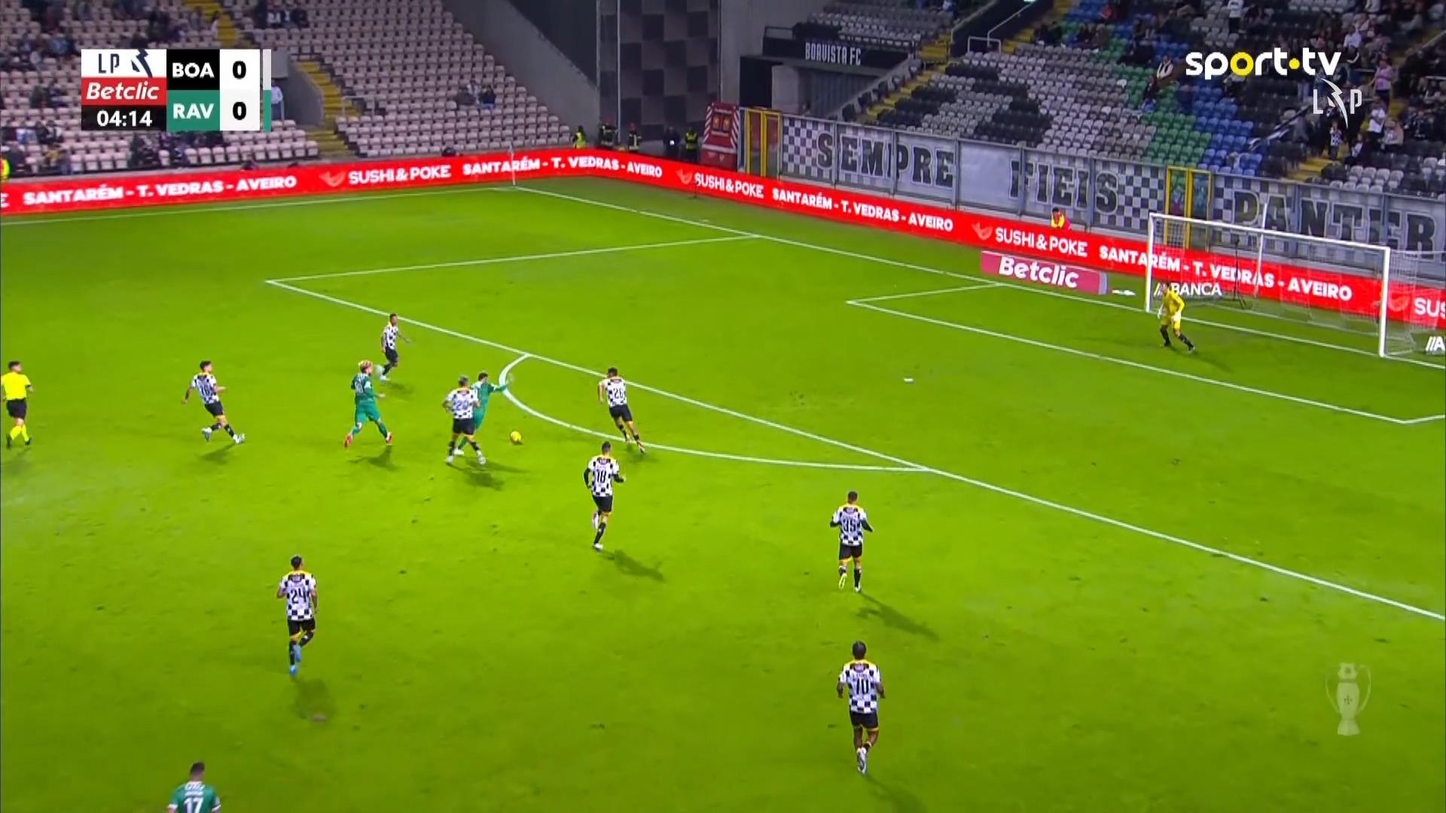ball: (509, 430, 521, 444)
goalkeeper: (1154, 280, 1196, 353)
player: (835, 640, 886, 775), (181, 359, 245, 445), (451, 370, 512, 460), (275, 553, 318, 676), (582, 440, 626, 550), (828, 489, 873, 592), (342, 359, 392, 448), (596, 366, 645, 454), (441, 374, 487, 466), (166, 761, 221, 811), (378, 312, 412, 382)
referee: (0, 359, 34, 448)
